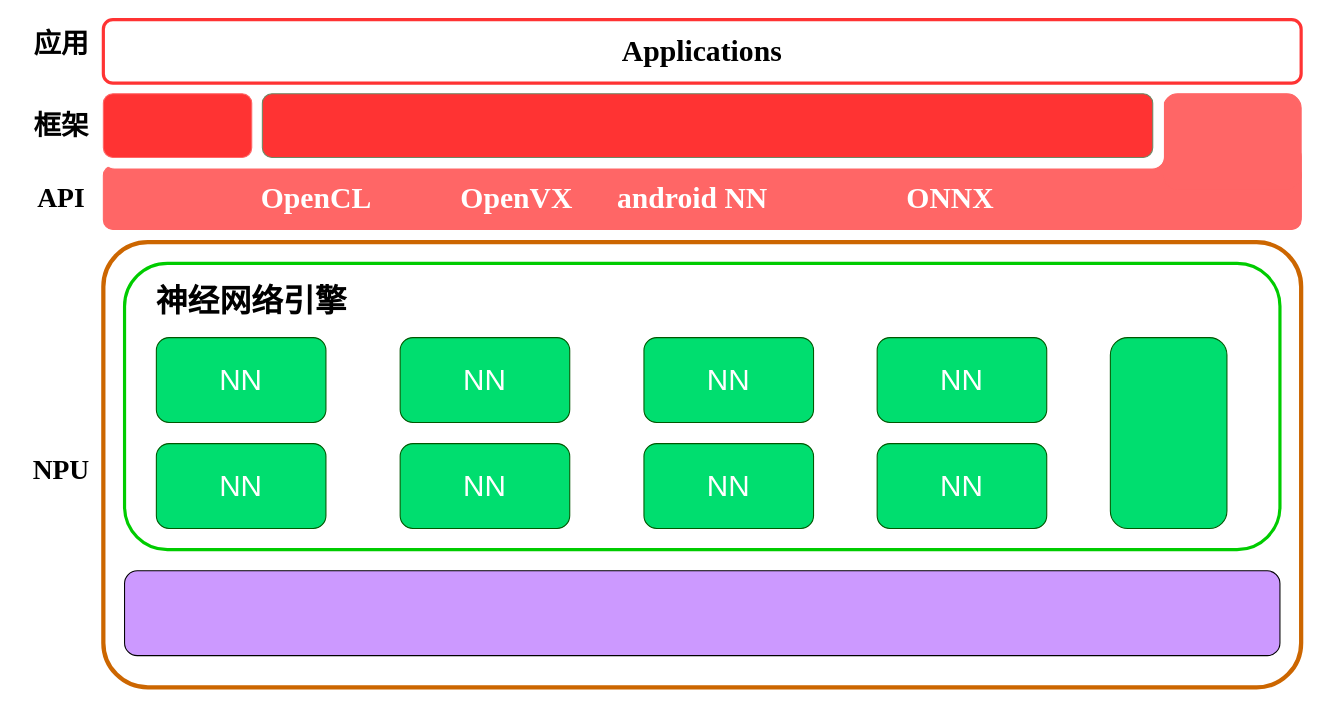
Some shapes in this 1321 by 708 pixel diagram are drawn without their labels. The shapes that lost their labels are listed below. From the top down, each one's centre as x and y in pixels, then its label:
(x=177, y=125): OpenCV
(x=707, y=125): TensorFlow Pytorch Caffe TFLite ONNX Darknet Theano
(x=1168, y=432): Fabreic
(x=701, y=613): Data Storage and Cache
